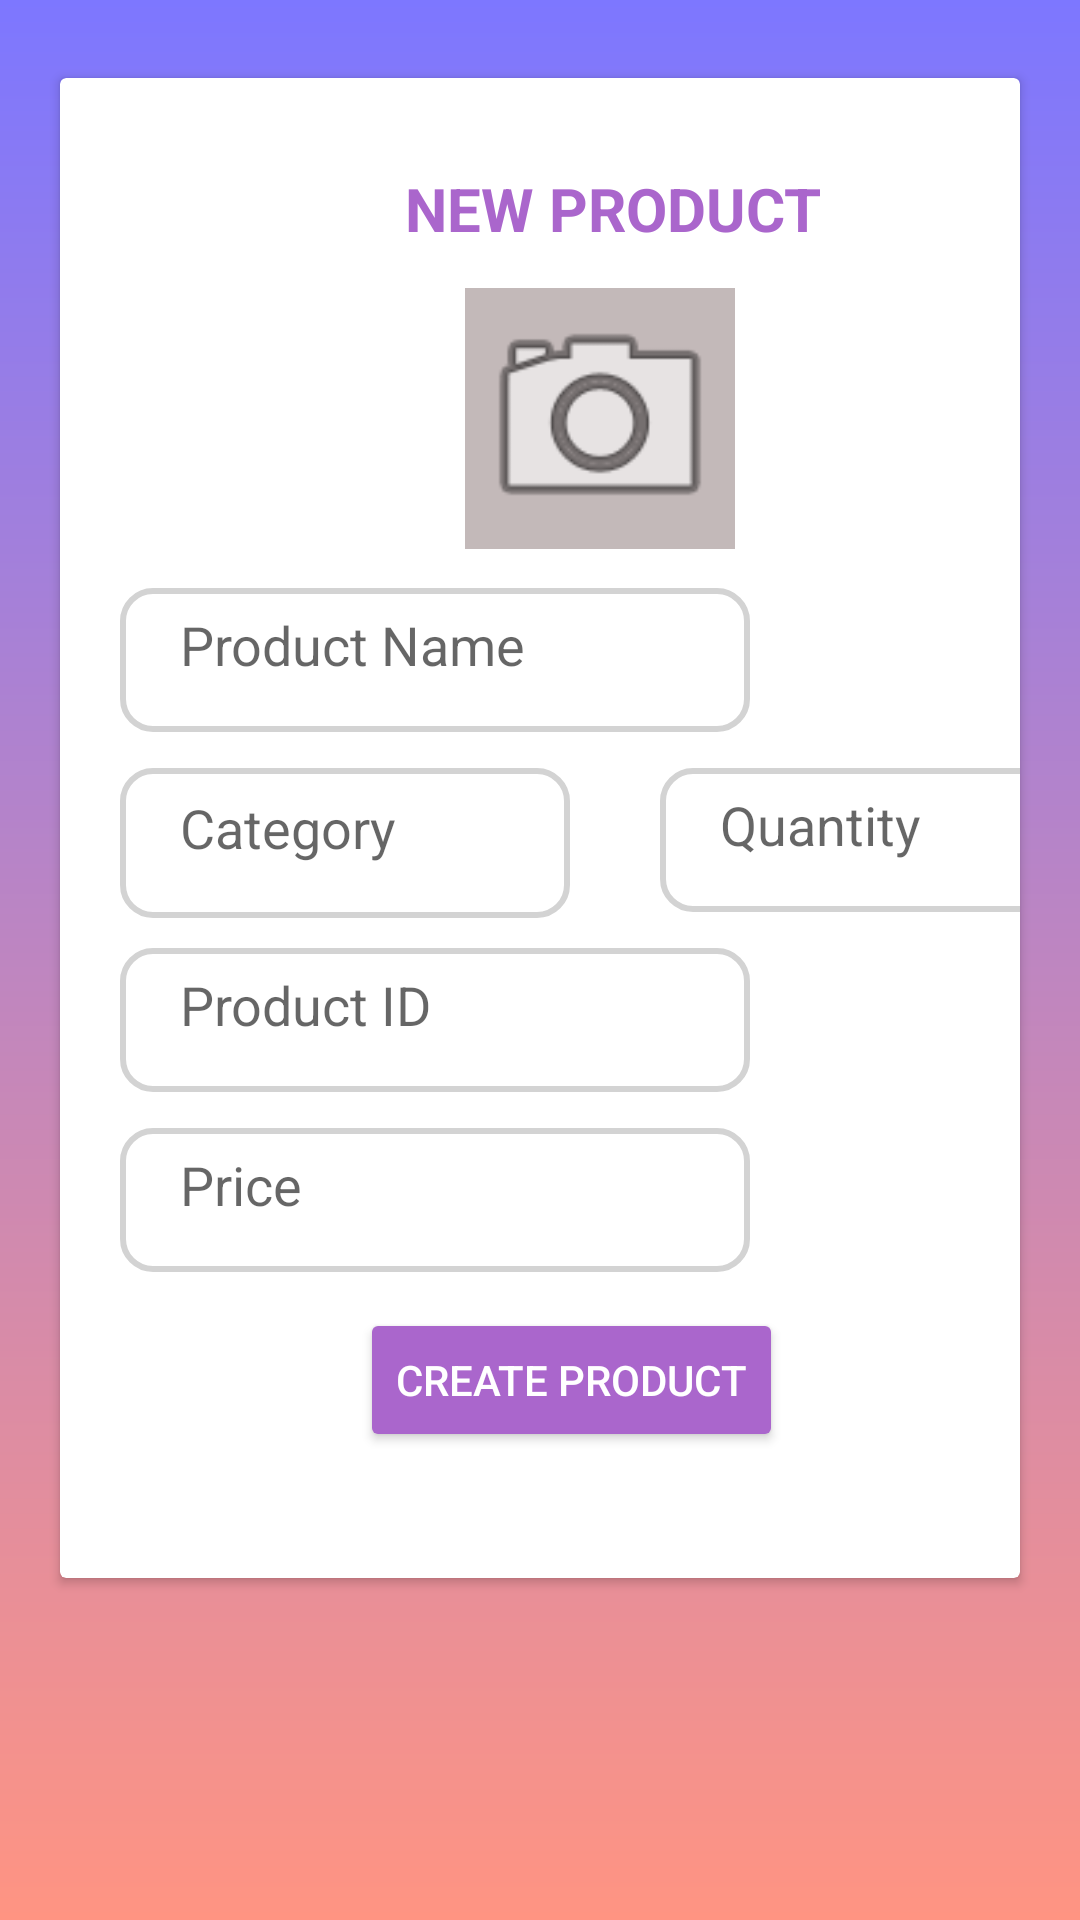

Where to tap for icons on this 1080w x 1920h app screen, as (x,y):
camera: (600,418)
